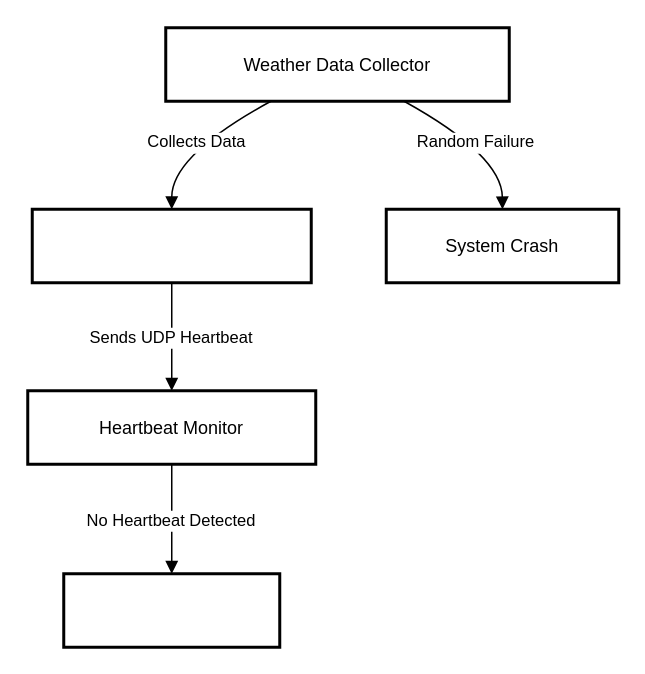
This 645x674 diagram has some shape labels left out. The shapes that lost their labels are listed below. From the top down, each one's centre as x and y in pixels, then its label:
At pixel 171 245: "Heartbeat Sender".
At pixel 171 610: "Raise Alarm".
